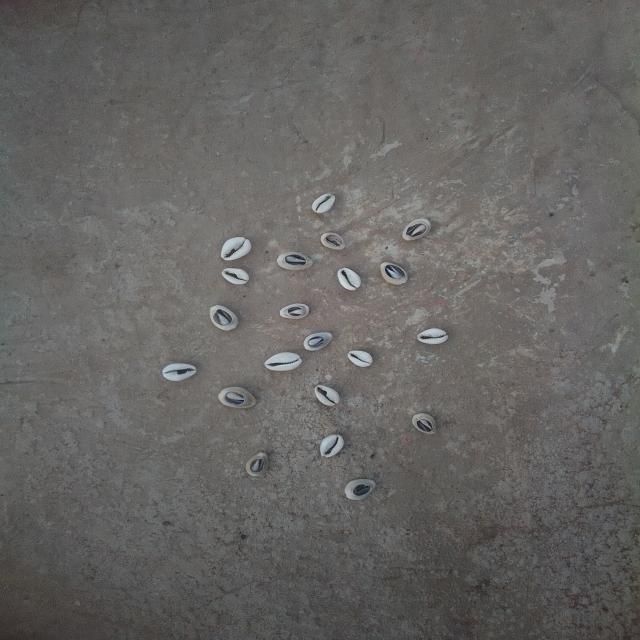facedown: (215, 383, 258, 412), (397, 216, 438, 244), (340, 476, 382, 503), (208, 302, 242, 332), (376, 258, 412, 286), (409, 409, 441, 436), (276, 250, 314, 272), (301, 329, 337, 352), (242, 450, 270, 478), (278, 300, 312, 321), (318, 230, 348, 252)
faceup: (220, 233, 254, 262), (266, 349, 305, 374), (310, 380, 344, 408), (162, 359, 200, 384), (307, 191, 340, 216), (336, 266, 365, 294), (413, 325, 448, 347), (217, 266, 255, 286), (315, 432, 343, 458), (347, 346, 376, 371)
